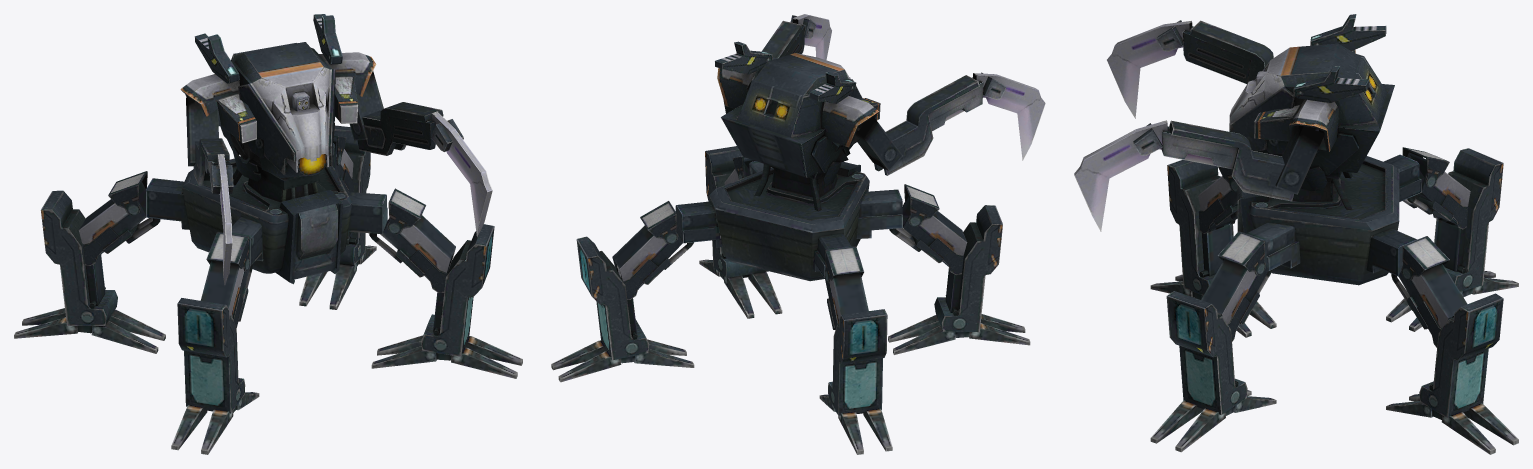
The picture shows the model from 3 angles, left to right: view 1: azimuth 30°, elevation 25°; view 2: azimuth 150°, elevation 25°; view 3: azimuth 270°, elevation 25°; orthographic projection. The views are drawn at different scales.
Visible parts, largest first — view 1: 20_10; view 2: 20_10; view 3: 20_10.
Part boxes in pixels (left/top/right/bottom): 20_10: left=14, top=14, right=522, bottom=454; 20_10: left=551, top=14, right=1045, bottom=454; 20_10: left=1074, top=14, right=1518, bottom=454.
Bounding box in the file's own units: 301 × 255 × 315.
